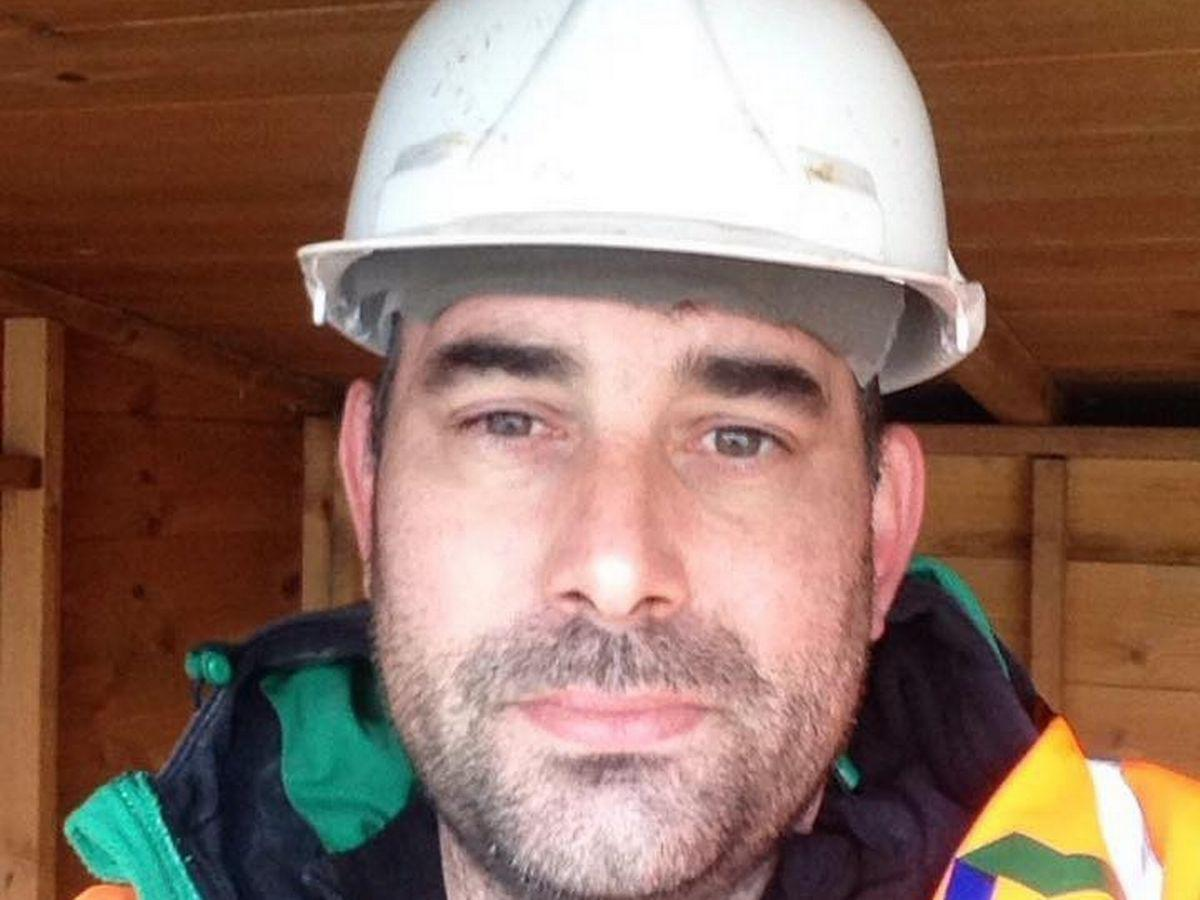helmet: (296, 1, 986, 395)
